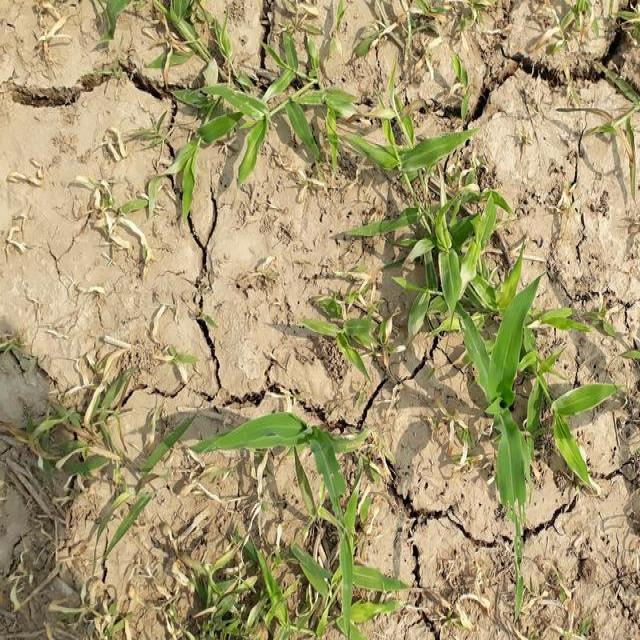weed: (379, 92, 608, 522), (198, 397, 403, 640), (146, 4, 351, 203), (28, 373, 185, 532), (301, 283, 375, 379), (90, 170, 150, 258), (412, 0, 502, 37), (362, 4, 402, 69), (506, 522, 528, 614), (598, 67, 638, 109), (98, 0, 134, 40), (191, 298, 223, 334), (156, 347, 196, 372), (560, 2, 594, 30), (618, 7, 640, 49)
